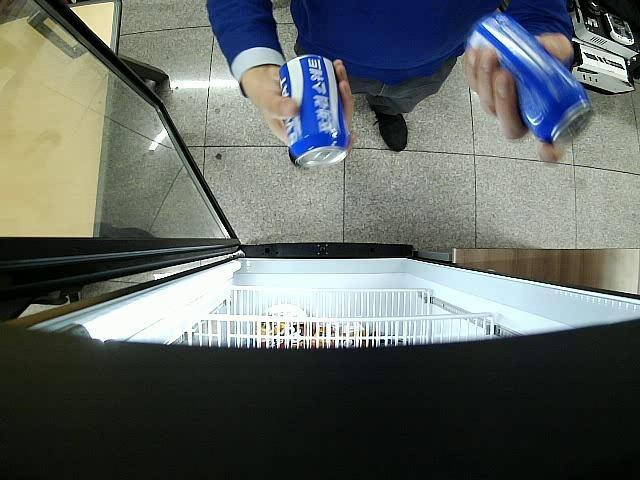13_pocariSweat: (467, 12, 594, 146), (279, 56, 350, 168)
